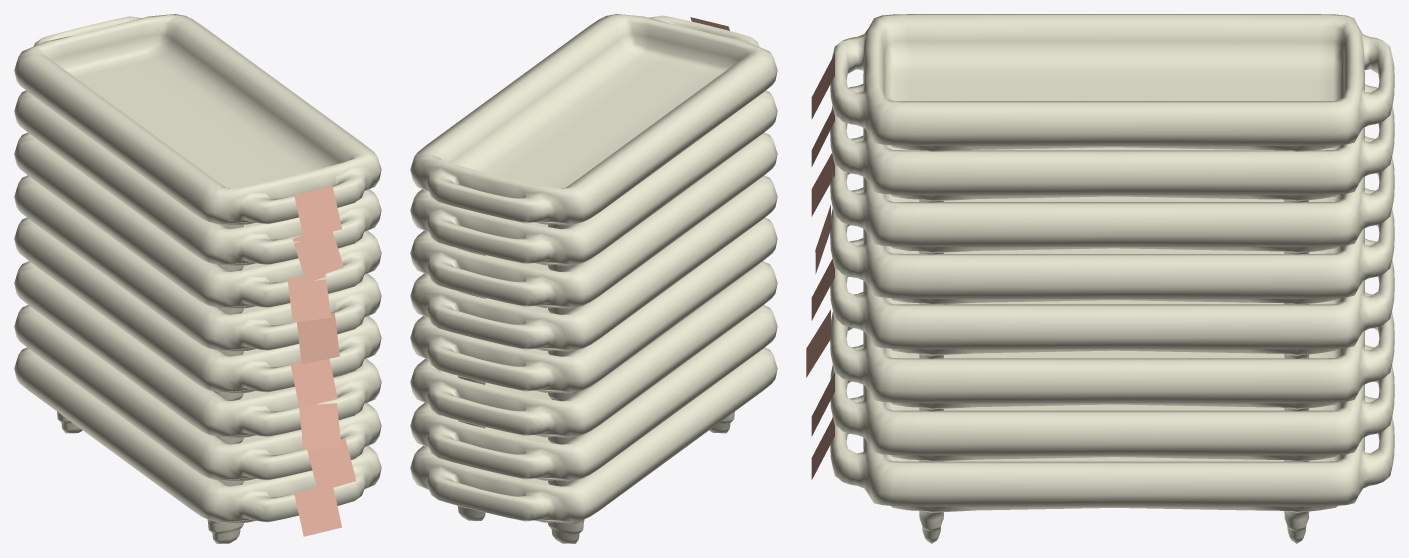
File: stack_o'_trays.fbx
3 renders of one model, left to right at view 1: azimuth 30°, elevation 25°; view 2: azimuth 150°, elevation 25°; view 3: azimuth 270°, elevation 25°, orthographic. The views are drawn at different scales.
Visible parts, largest first — view 1: tray7, tray2, tray, tray1, tray4, tray5, sticket (×8), tray3, tray6; view 2: tray7, tray, tray2, tray1, tray5, tray4, tray3, tray6; view 3: tray7, tray2, tray, tray1, tray4, tray5, tray3, tray6, sticket.
Part boxes in pixels (box(x1,y1,x2,y2)): tray7: box(14, 14, 381, 228); tray2: box(14, 261, 381, 444); tray: box(14, 347, 381, 543); tray1: box(14, 305, 381, 486); tray4: box(14, 175, 381, 356); tray5: box(14, 132, 381, 314); sticket (×8): box(287, 186, 356, 536); tray3: box(14, 217, 381, 400); tray6: box(14, 90, 381, 271); tray7: box(410, 14, 777, 228); tray: box(410, 347, 777, 543); tray2: box(410, 261, 777, 444); tray1: box(410, 305, 777, 486); tray5: box(410, 132, 777, 314); tray4: box(410, 175, 777, 356); tray3: box(410, 217, 777, 400); tray6: box(410, 90, 777, 271); tray7: box(830, 14, 1394, 151); tray2: box(830, 292, 1394, 411); tray: box(830, 395, 1394, 543); tray1: box(830, 344, 1394, 462); tray4: box(830, 187, 1394, 305); tray5: box(830, 136, 1394, 254); tray3: box(830, 238, 1394, 358); tray6: box(830, 84, 1394, 202); sticket: box(806, 309, 830, 377).
Size of the model in its own units: 1.24 by 2.48 by 2.92.
